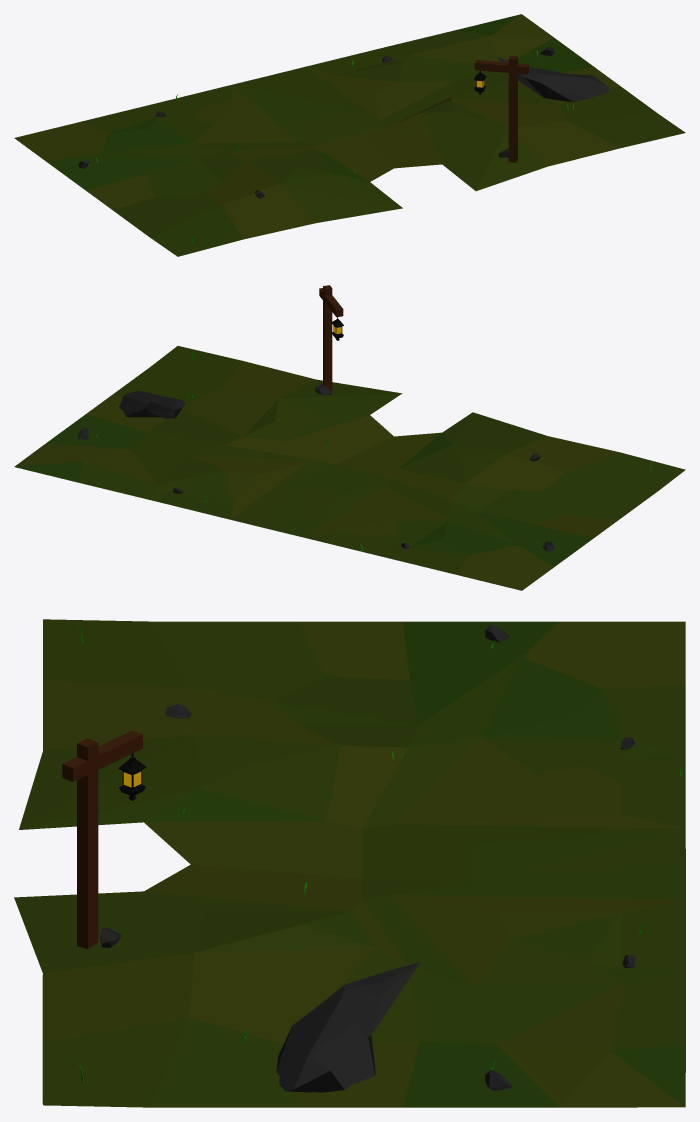
Rendered from terrain-neutral.glb.
3 views of the same model, one above another, from view 1: azimuth 30°, elevation 25°; view 2: azimuth 150°, elevation 25°; view 3: azimuth 270°, elevation 25° (orthographic). The views are drawn at different scales.
Visible parts, largest first — view 1: terrain-neutral; view 2: terrain-neutral; view 3: terrain-neutral.
Boxes of the visible parts, left/top/right/bottom form: terrain-neutral: left=14, top=14, right=685, bottom=256; terrain-neutral: left=14, top=285, right=685, bottom=590; terrain-neutral: left=14, top=619, right=685, bottom=1107.
Bounding box in the file's own units: 13.49 × 2.82 × 7.88.
1 material, 1 textured.
